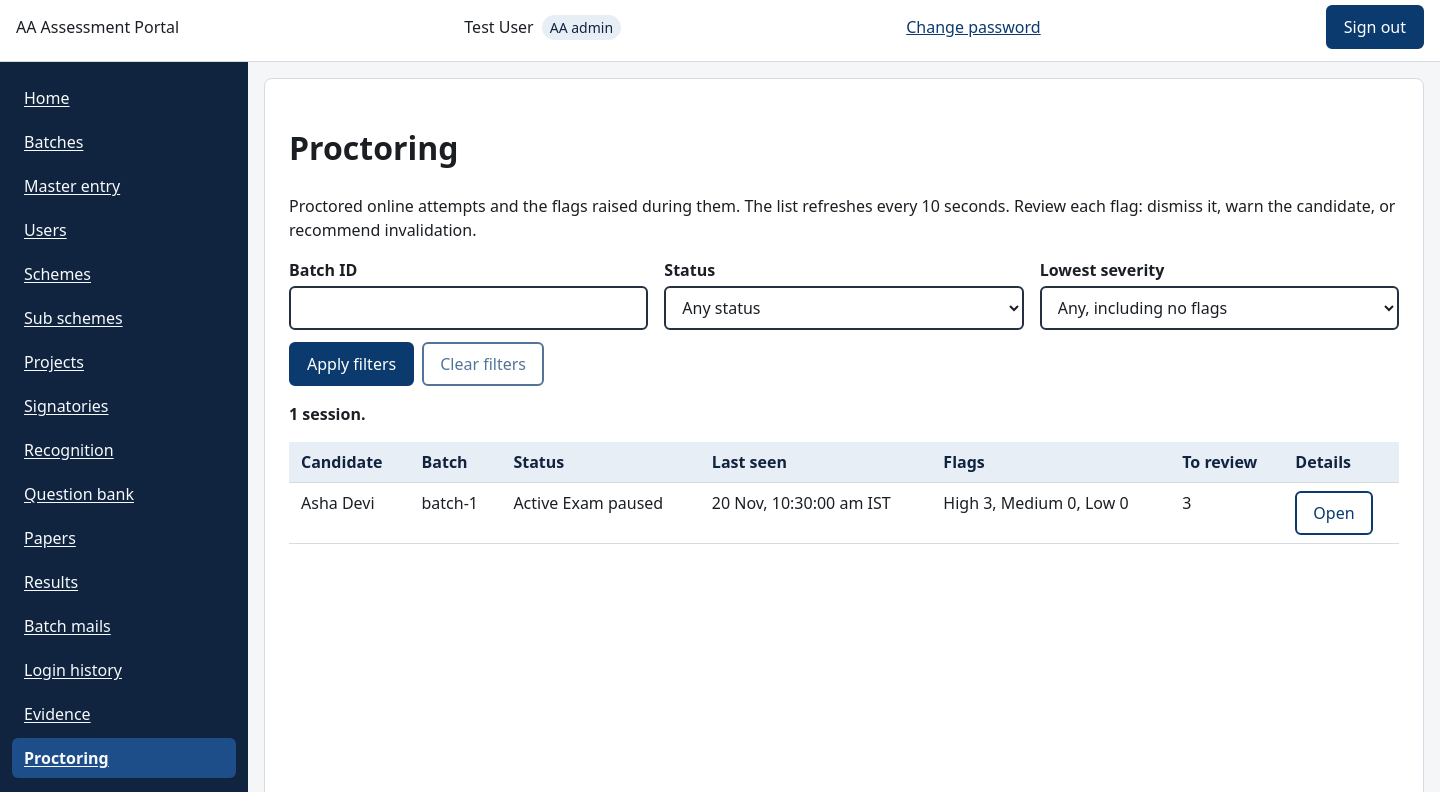
Test: lets aa_admin unlock, then shows the exam as not paused
Click the button with aria-label "Open session of Asha Devi" at [1334, 513], box [1295,491,1373,535]
(page scrolled)
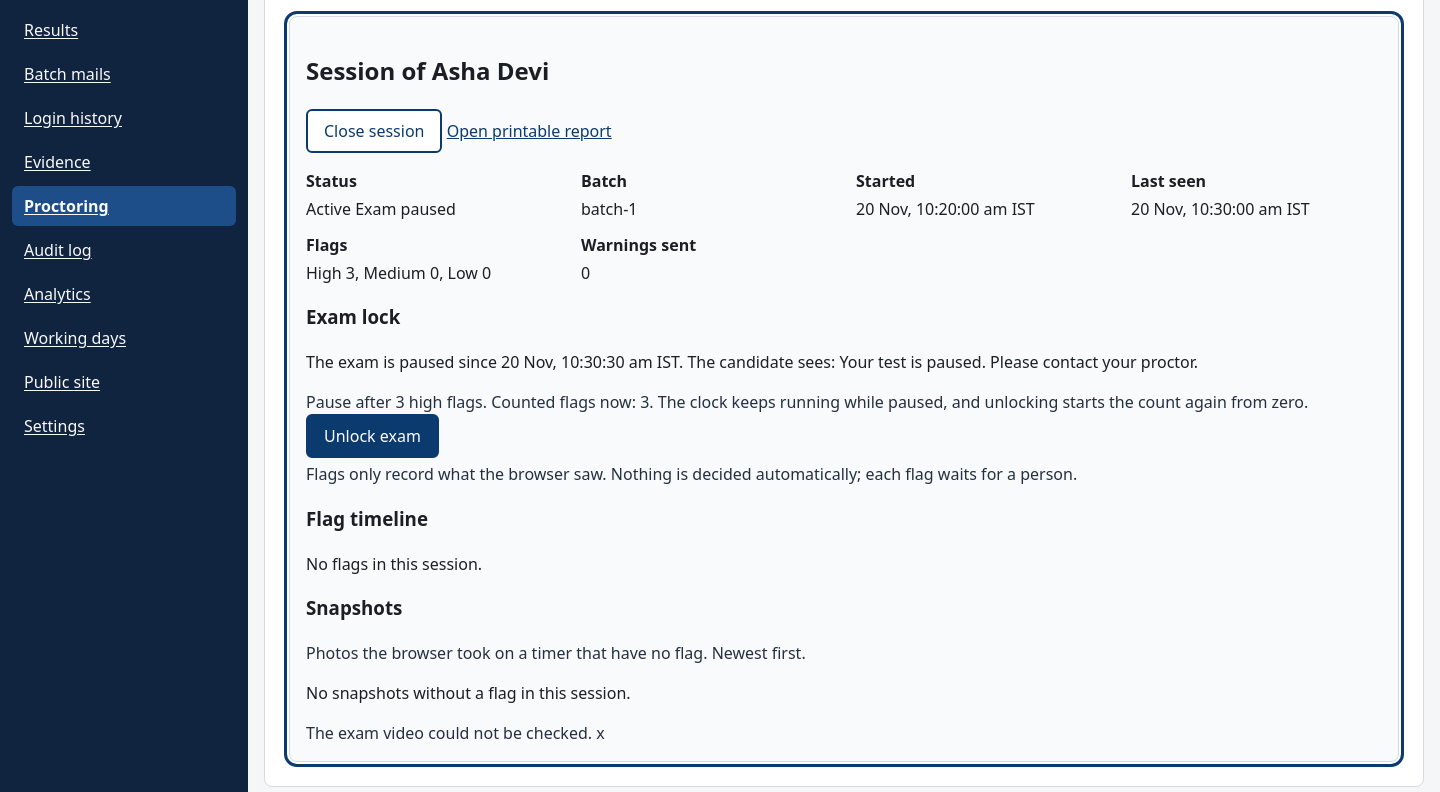
Click the button "Unlock exam" at [372, 436], box [306,414,439,458]
(page scrolled)
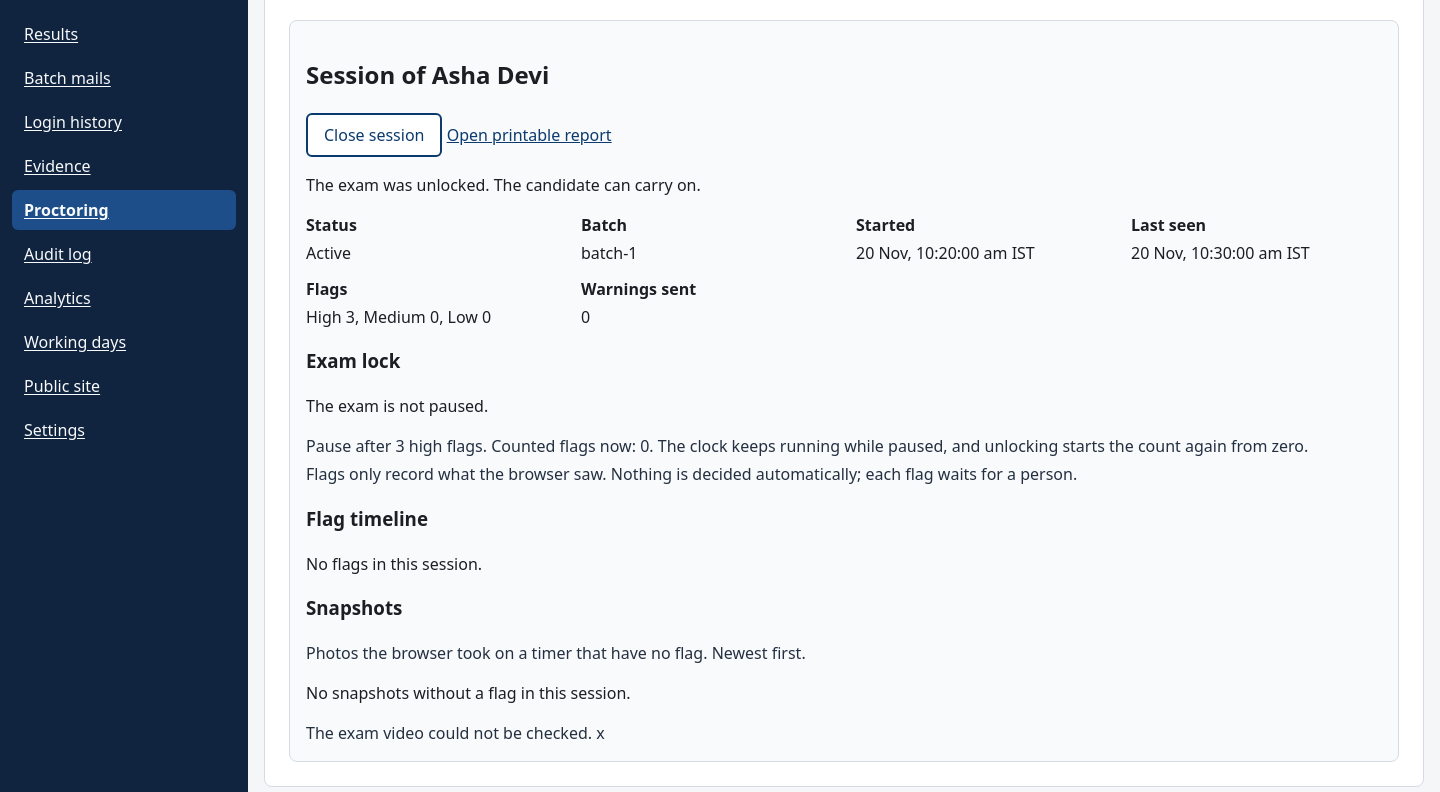
Result: the text "The exam is not paused." is shown at [306,395,488,417]
Result: the button "Unlock exam" is gone
Result: the text "The exam was unlocked. The candidate can carry on." is shown at [306,174,701,196]
